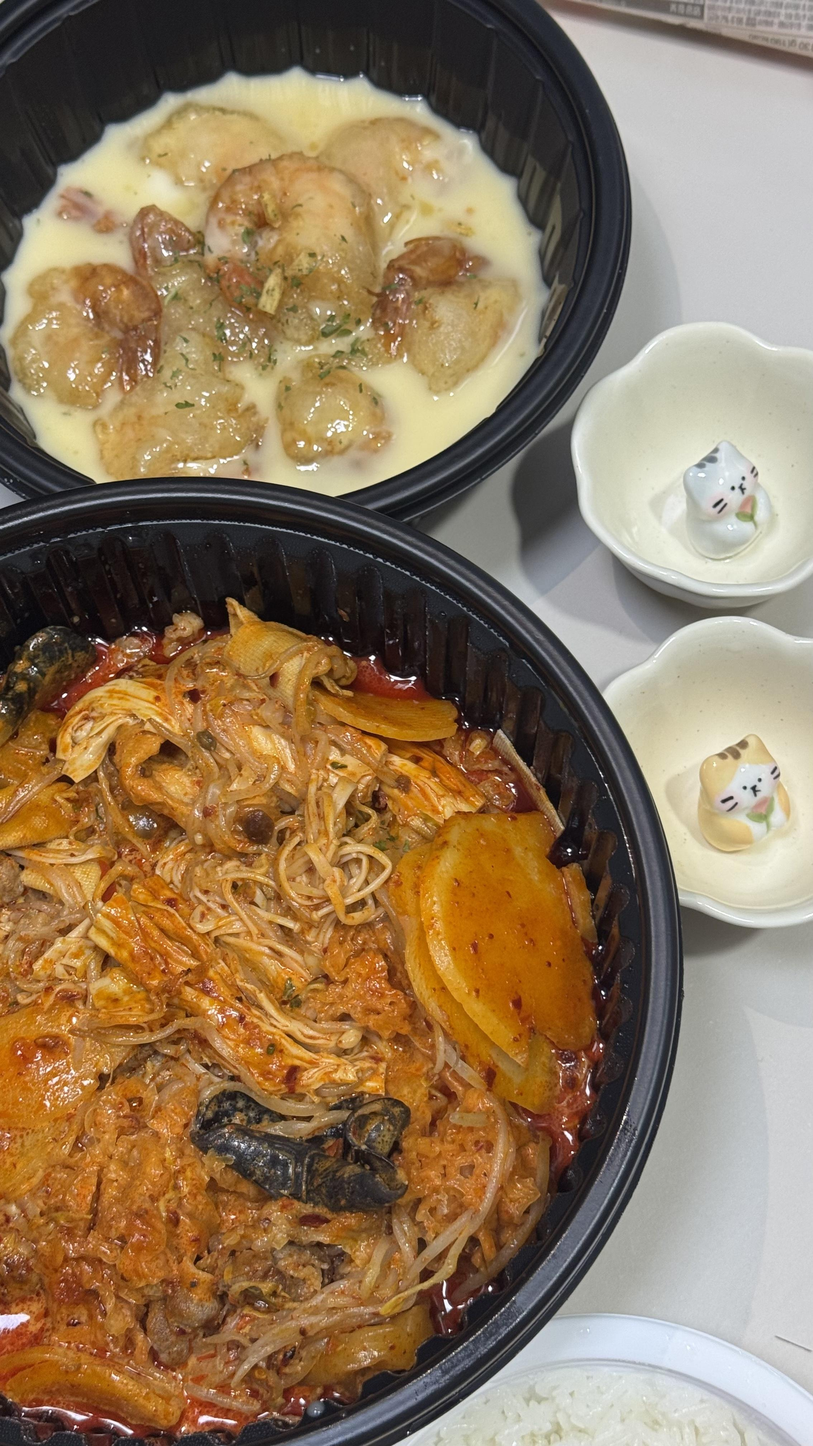Lunch Box: (0, 480, 682, 1446), (0, 0, 631, 518)
